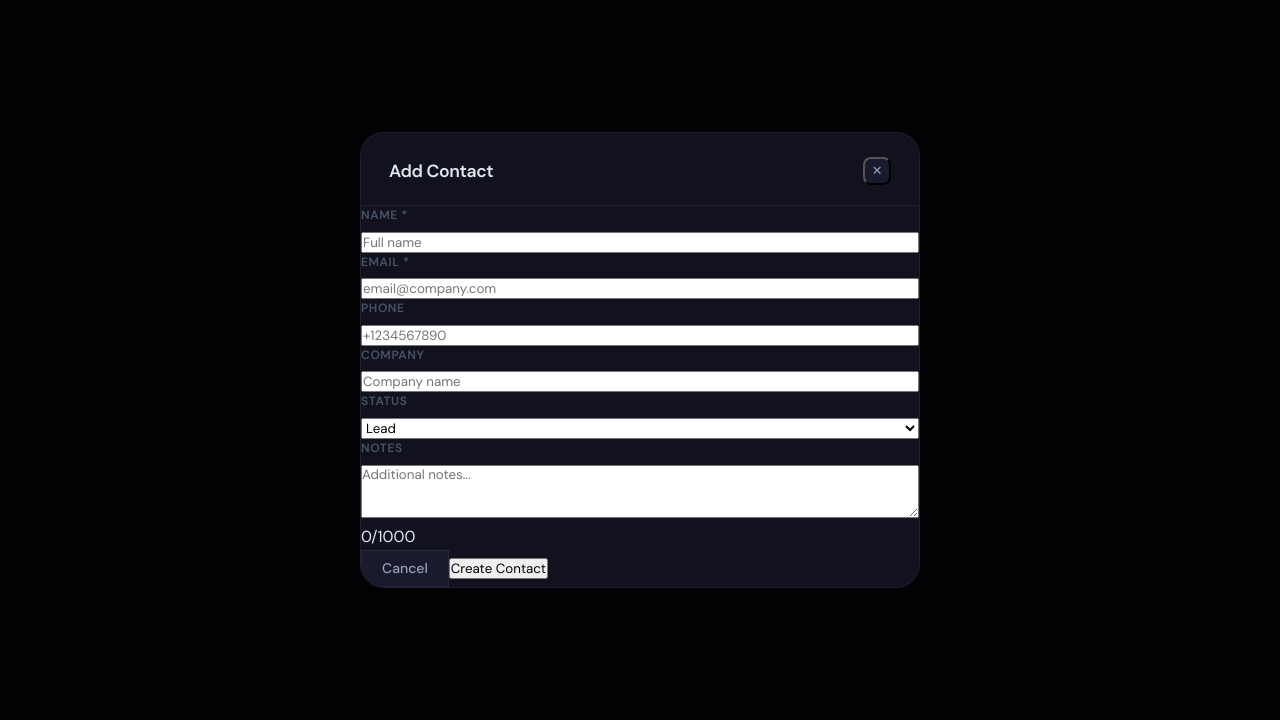
Test case: ContactModal Component › shows validation error for invalid email
Type "Jane Doe" into the field with placeholder "Full name" at (640, 242), box x1=361 y1=232 x2=919 y2=253
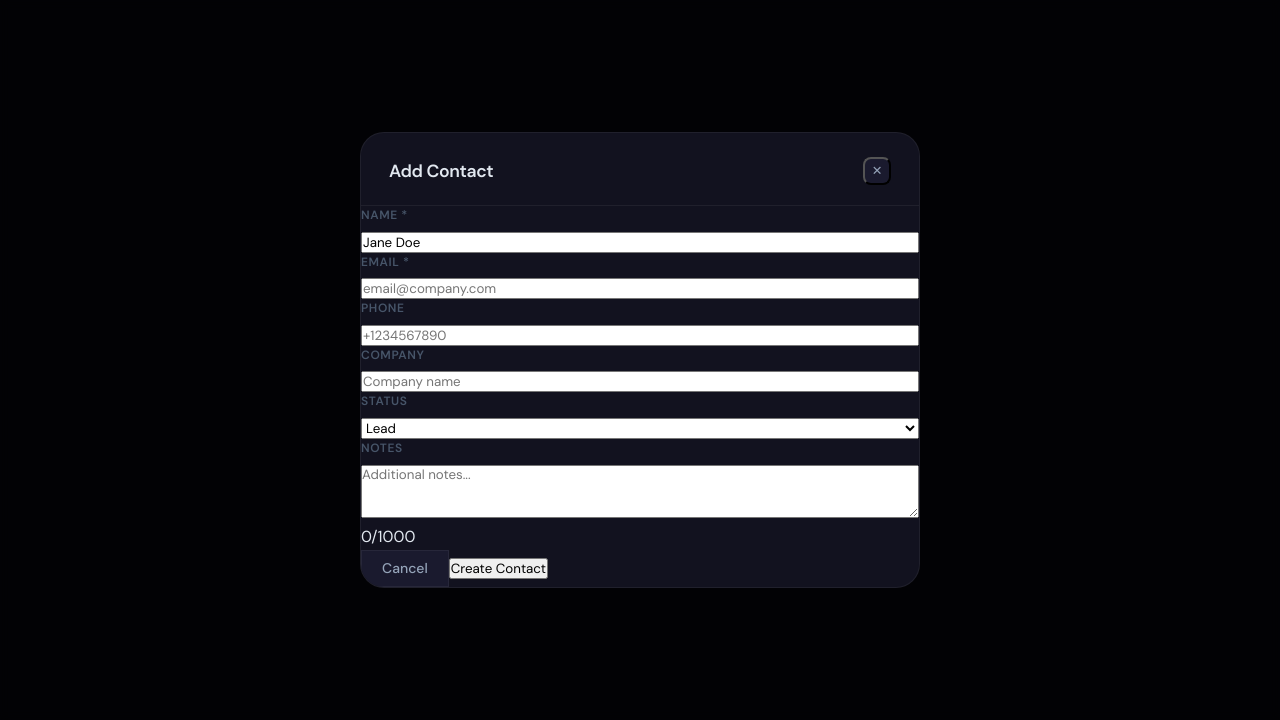
'notanemail' has no @ so it fails the regex → shows "Invalid email address"
Type "notanemail" into the field with placeholder "email@company.com" at (640, 289), box x1=361 y1=278 x2=919 y2=299
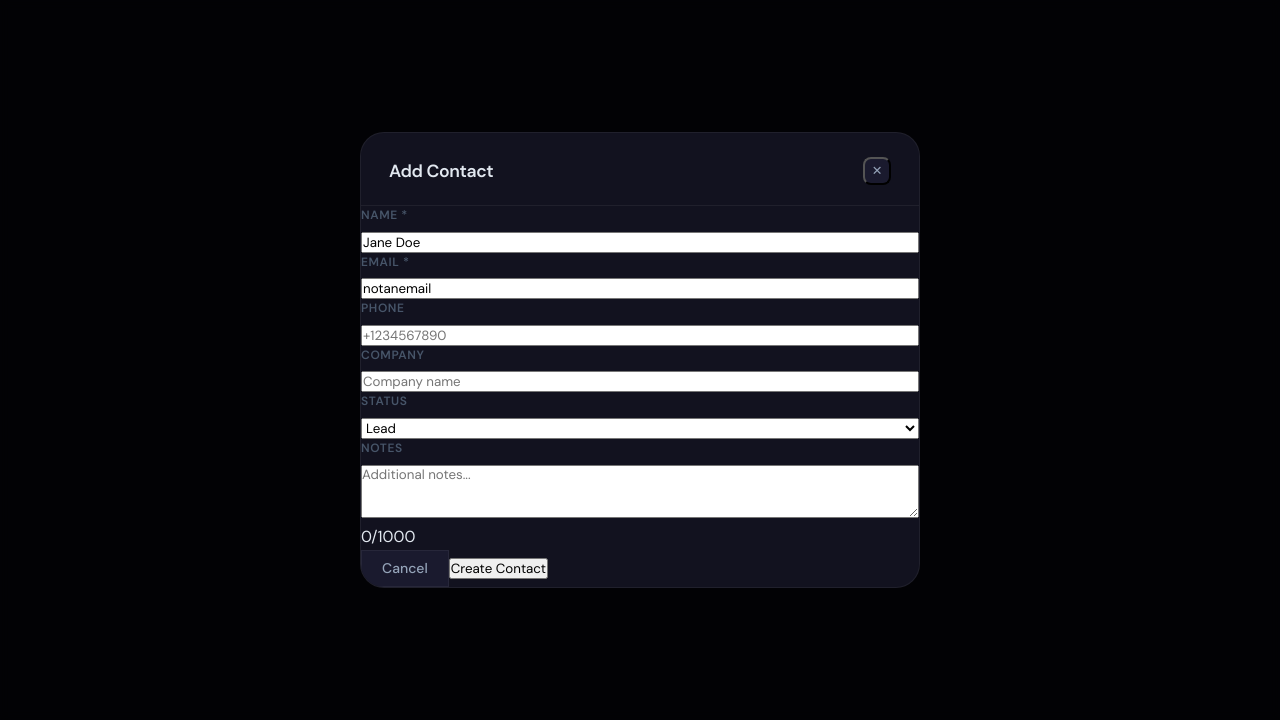
Click the button "Create Contact" at (498, 569), box x1=449 y1=558 x2=548 y2=579
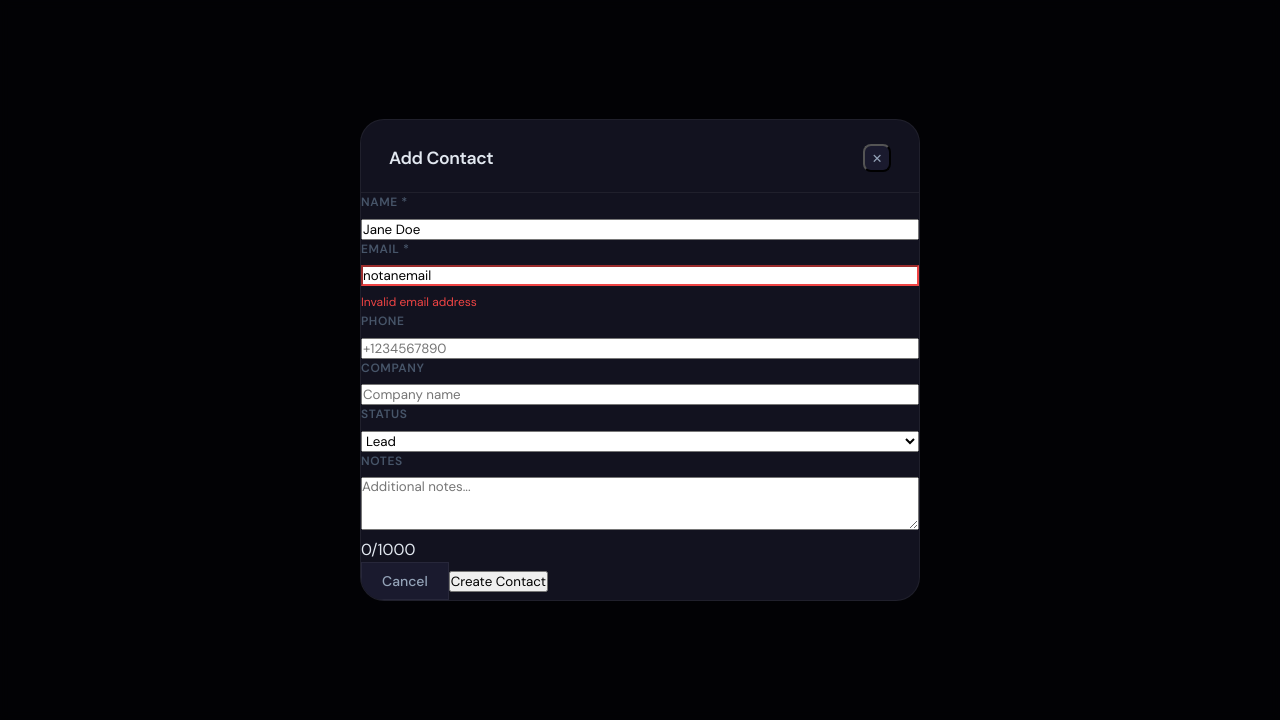
Expected: the text "Invalid email address" is shown, x1=361 y1=294 x2=477 y2=310
